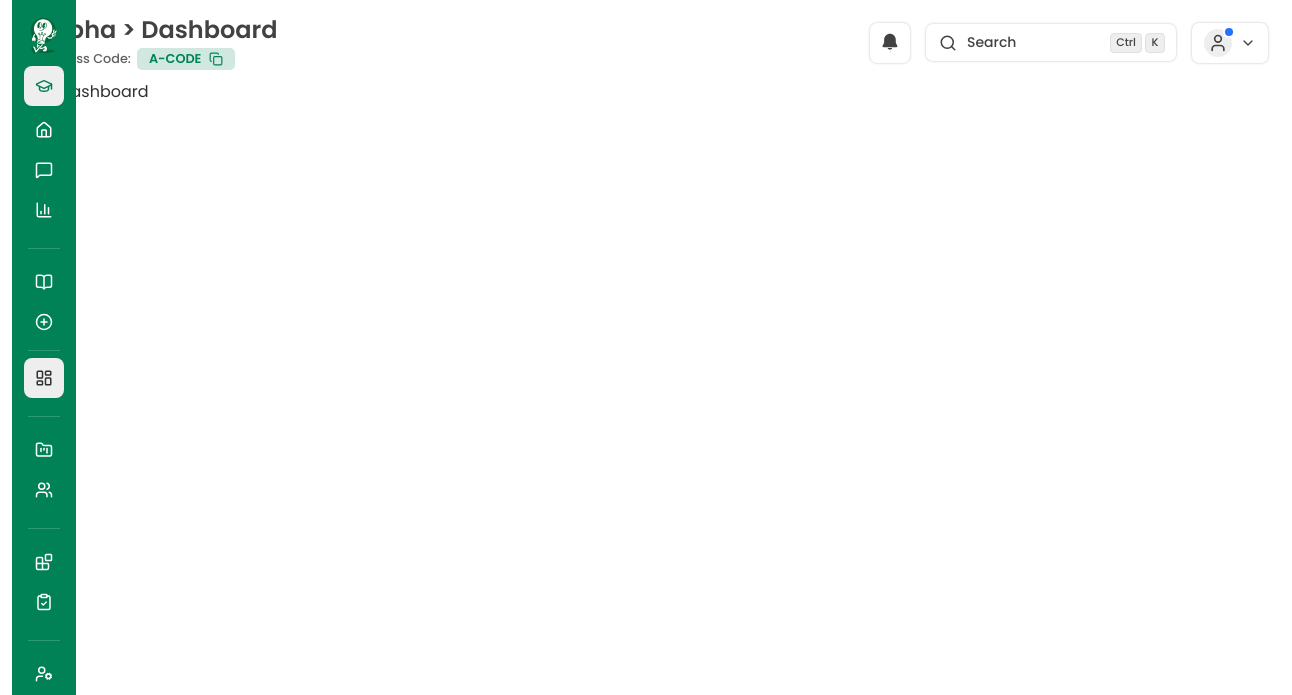
Scenario: "View class as student" › starts from the Dashboard and lands on Home
Click the button named "Profile menu" at [1230, 43], box [1192,23,1268,63]
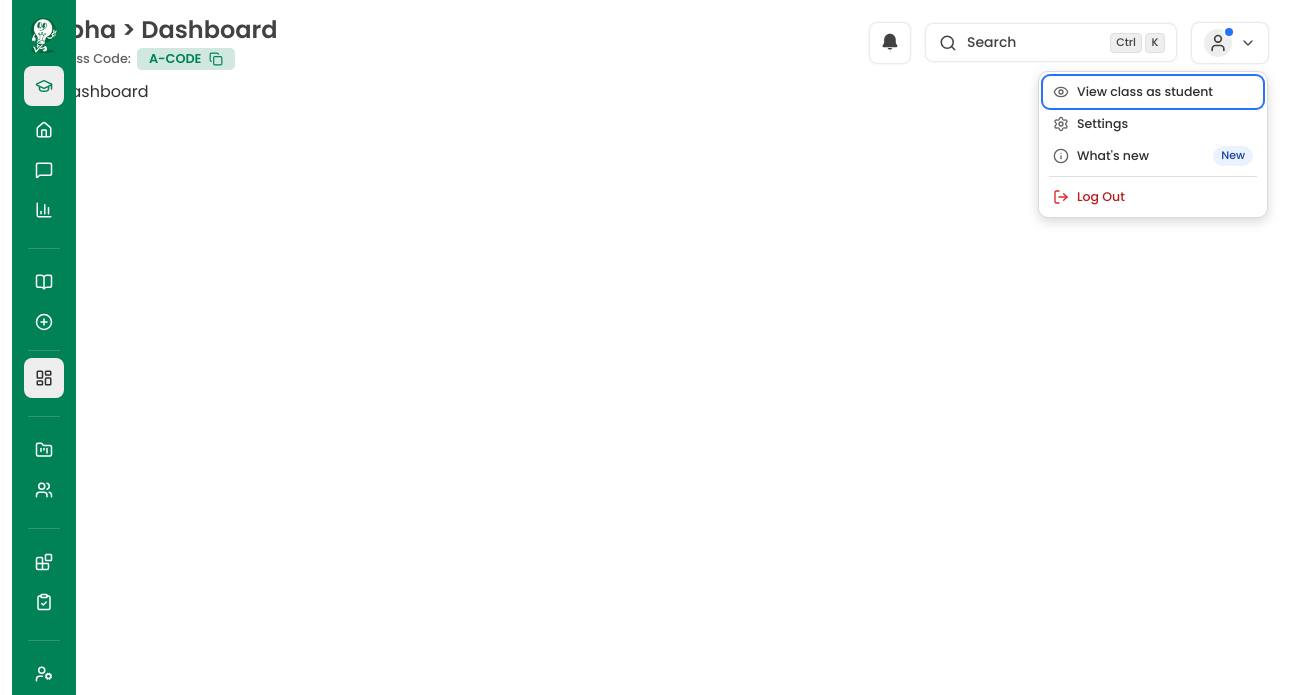
Click the menu item "View class as student" at [1153, 92], box [1043,76,1263,108]
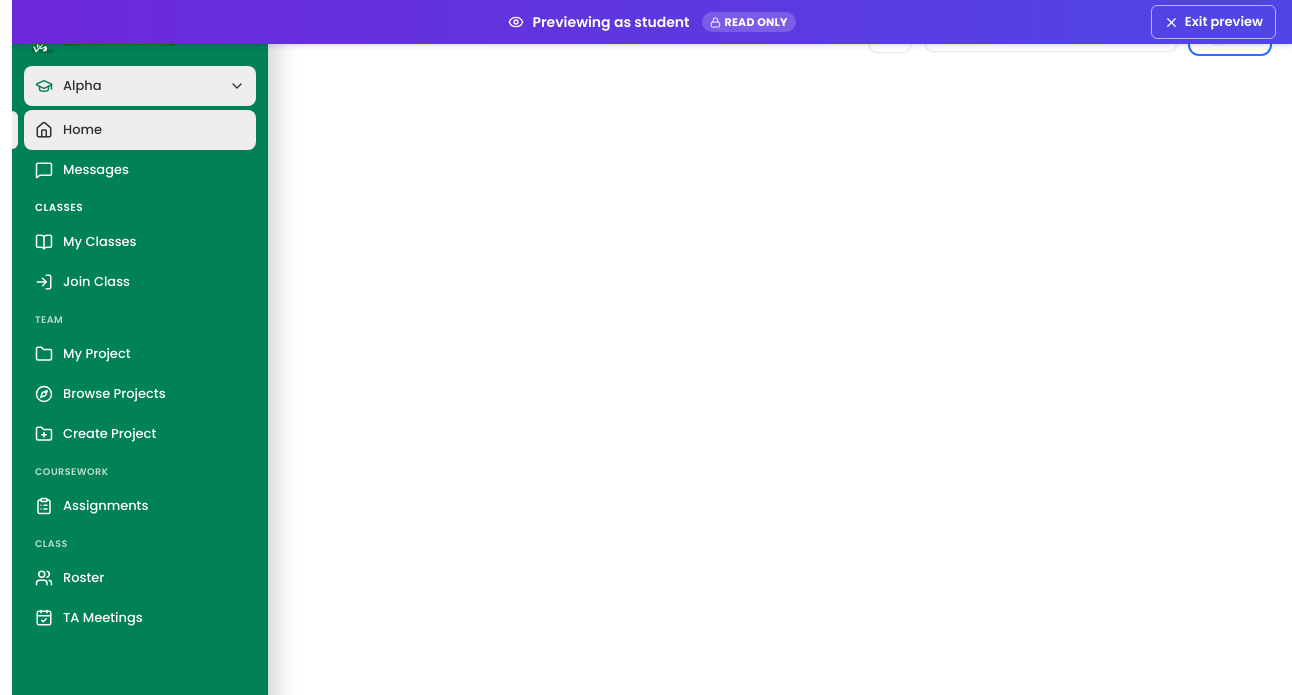
Result: the text with test id "page" reads "/app/home" at [12,64,107,87]
Result: the text "Previewing as student" is shown at [532,12,690,32]
